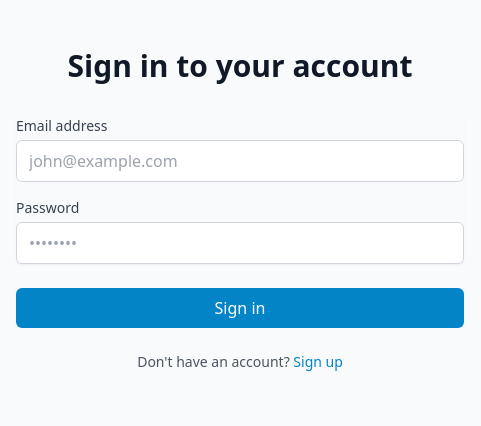
Test: Login › shows error message when login fails
The width and height of the screenshot is (481, 426).
# Fill in the form
Type "test@example.com" into the field labelled "Email address" at (240, 161), box [16, 140, 464, 182]
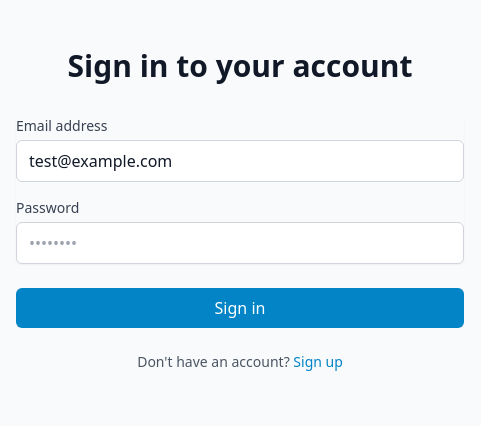
Type "wrongpassword" into the password field labelled "Password" at (240, 243), box [16, 222, 464, 264]
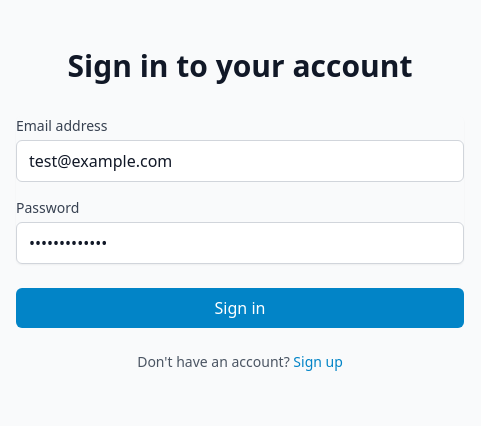
# Submit the form
Click the button "Sign in" at (240, 308), box [16, 288, 464, 328]
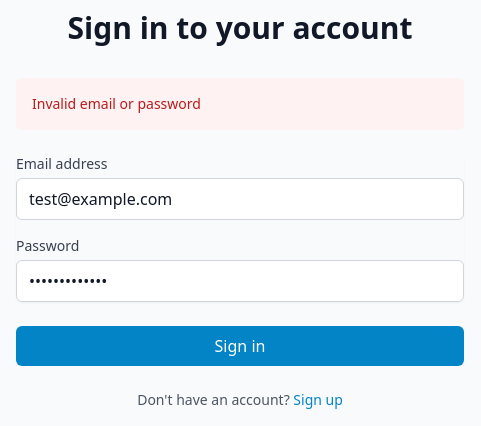
Check: the text "Invalid email or password" is shown, box [32, 94, 201, 113]
